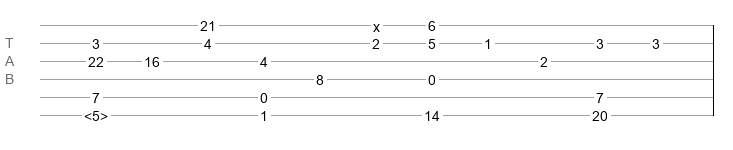0: (260, 90, 268, 100), (428, 72, 436, 82)
1: (260, 108, 268, 118), (484, 36, 492, 46)
14: (424, 108, 440, 118)
16: (144, 54, 160, 64)
2: (372, 36, 380, 46), (540, 54, 548, 64)
20: (592, 108, 608, 118)
21: (200, 18, 216, 28)
22: (88, 54, 104, 64)
3: (92, 36, 100, 46), (596, 36, 604, 46), (652, 36, 660, 46)
4: (204, 36, 212, 46), (260, 54, 268, 64)
5: (428, 36, 436, 46)
6: (428, 18, 436, 28)
7: (92, 90, 100, 100), (596, 90, 604, 100)
8: (316, 72, 324, 82)
harmonic: (84, 108, 108, 118)
x: (373, 19, 380, 27)
